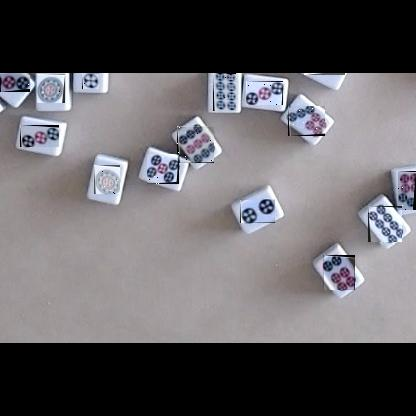1p: (37, 74, 65, 103), (94, 165, 120, 194)
2p: (240, 199, 275, 223), (82, 73, 99, 89)
3p: (246, 81, 283, 105), (20, 125, 59, 147), (0, 73, 30, 92), (304, 73, 345, 75)
5p: (147, 154, 179, 184)
6p: (323, 255, 355, 290)
7p: (288, 106, 325, 136), (398, 171, 416, 210)
8p: (368, 206, 402, 242), (213, 73, 236, 111)
9p: (177, 126, 214, 163)
